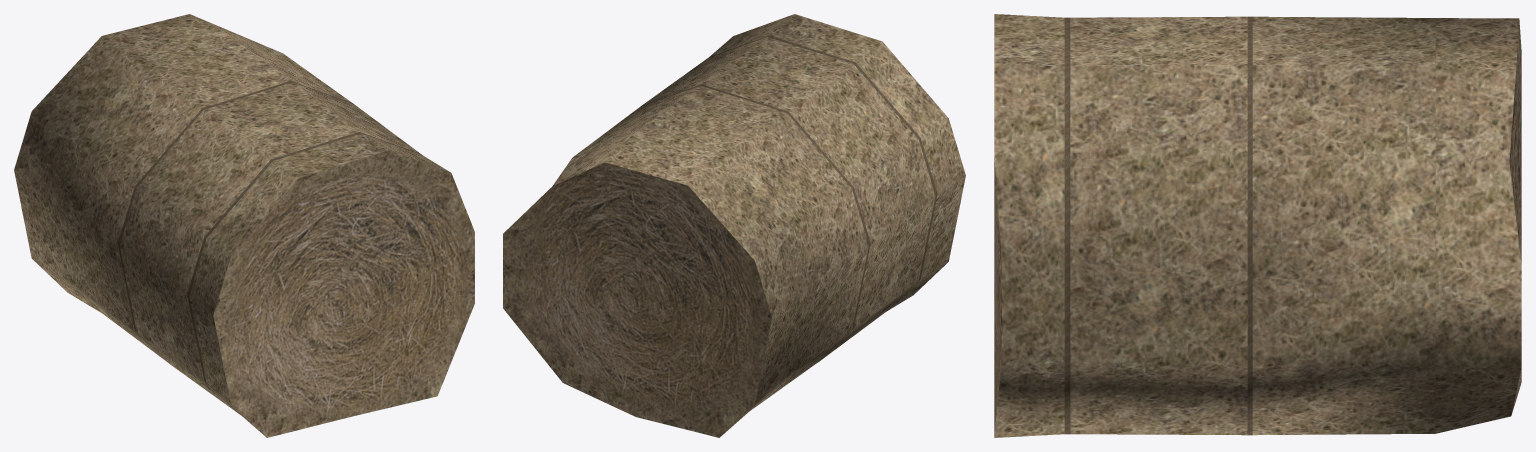
The model's file is Hay.fbx.
3 views of the same model, side by side, from view 1: azimuth 30°, elevation 25°; view 2: azimuth 150°, elevation 25°; view 3: azimuth 270°, elevation 25° (orthographic). The views are drawn at different scales.
Parts seen in each view (by area): view 1: Hay; view 2: Hay; view 3: Hay.
Boxes of the visible parts, <box> form: Hay: <box>14,14,474,437</box>; Hay: <box>503,14,965,437</box>; Hay: <box>994,14,1521,437</box>.
Size of the model in its own units: 194 by 174 by 242.
1 material, 1 textured.
